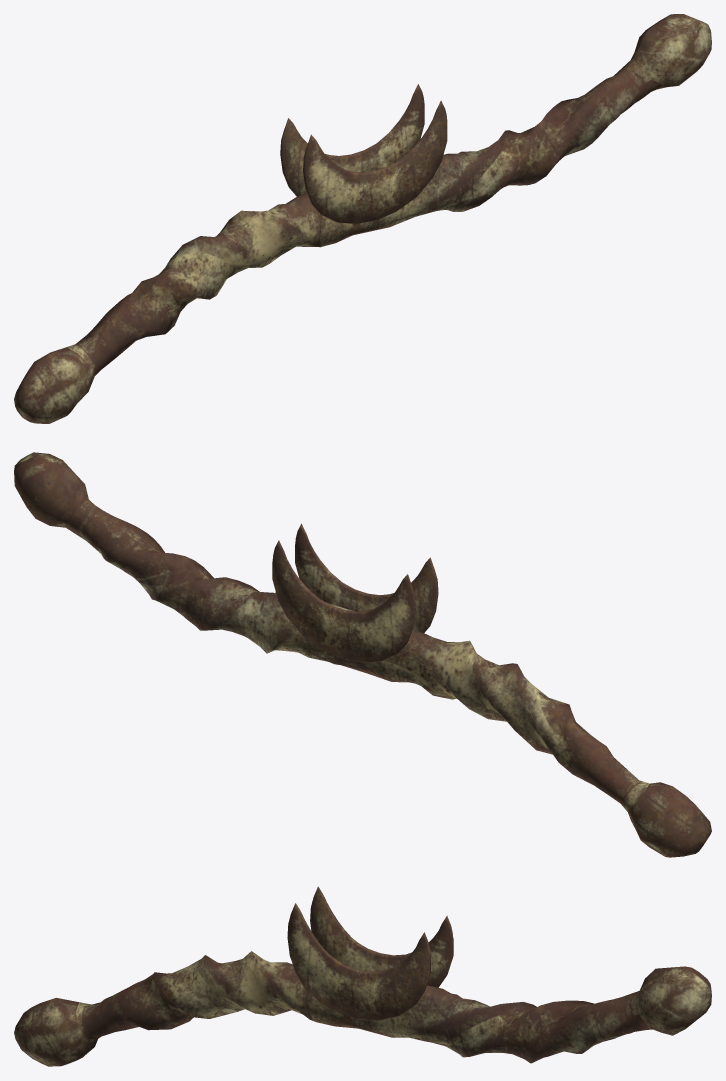
The model's file is easterling_sword_guard.fbx.
The picture shows the model from 3 angles, top to bottom: view 1: azimuth 30°, elevation 25°; view 2: azimuth 150°, elevation 25°; view 3: azimuth 330°, elevation 25°; orthographic projection.
Visible parts, largest first — view 1: easterling_sword_guard; view 2: easterling_sword_guard; view 3: easterling_sword_guard.
Boxes of the visible parts, left/top/right/bottom form: easterling_sword_guard: left=14, top=14, right=711, bottom=423; easterling_sword_guard: left=14, top=452, right=711, bottom=857; easterling_sword_guard: left=14, top=886, right=711, bottom=1066.
Bounding box in the file's own units: 0.3249 × 0.0234 × 0.1117.
Materials: 1 (1 with a texture image).
